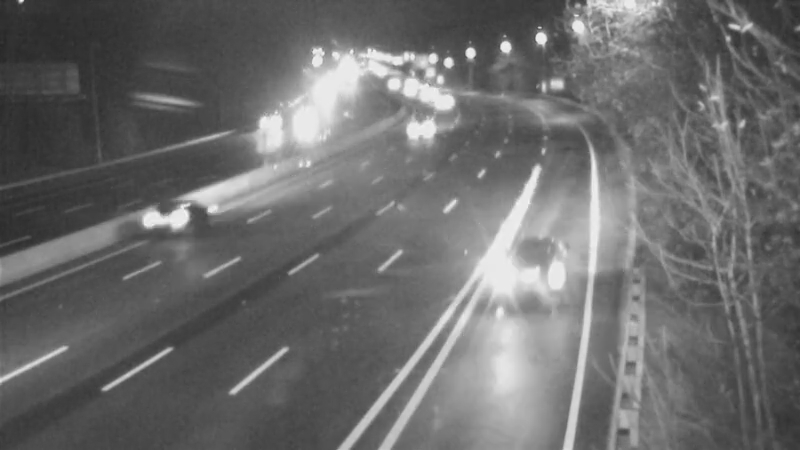vehicle: (482, 231, 562, 311), (130, 180, 210, 260), (362, 58, 412, 108), (388, 65, 438, 115), (408, 69, 458, 119), (423, 76, 473, 126), (392, 102, 442, 152), (248, 95, 298, 145), (286, 98, 336, 148)
